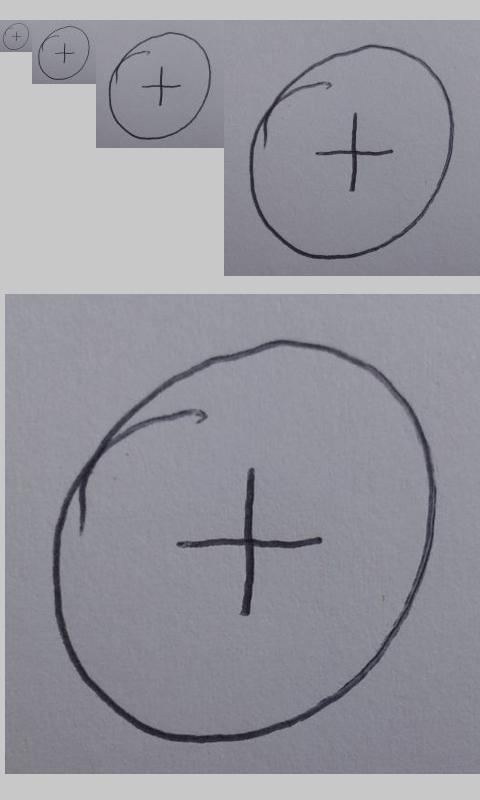button: (50, 337, 440, 744), (248, 43, 455, 259), (108, 31, 212, 140), (37, 25, 91, 81), (2, 22, 30, 51)
